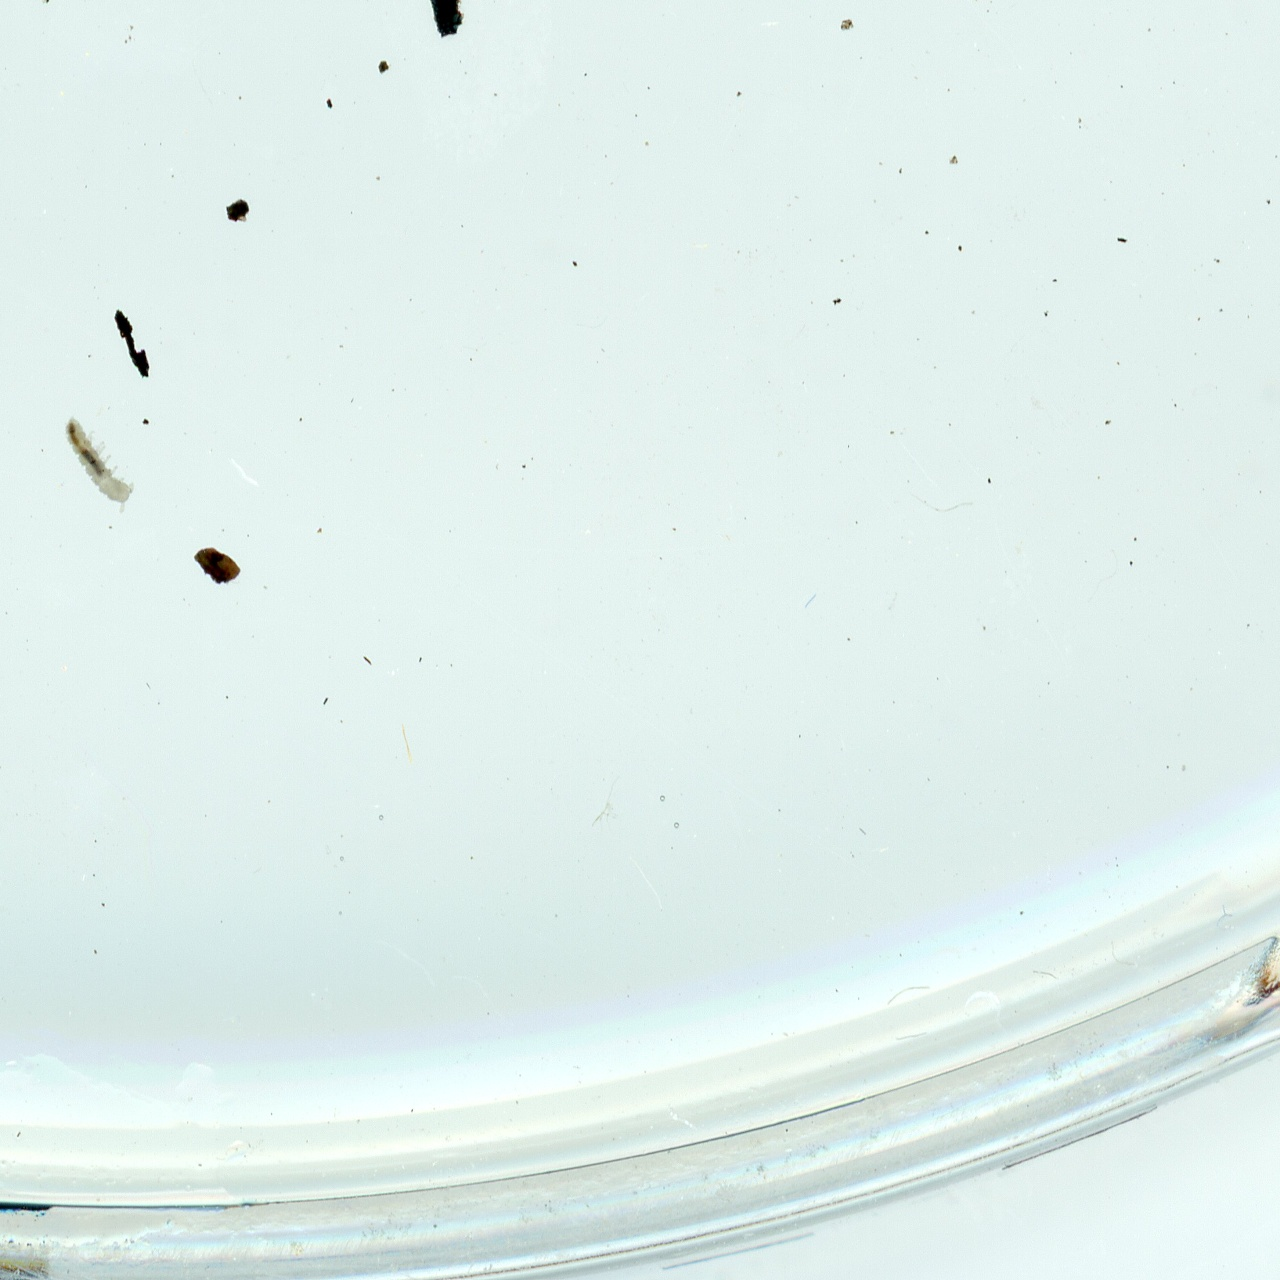arthropod: (43, 399, 151, 525)
